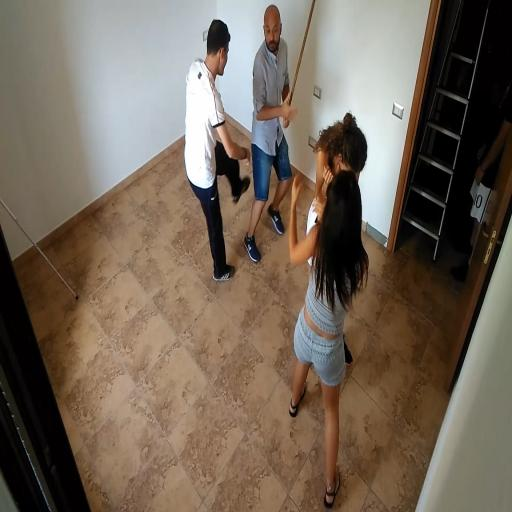violencia: (286, 105, 374, 512), (179, 4, 306, 284)
